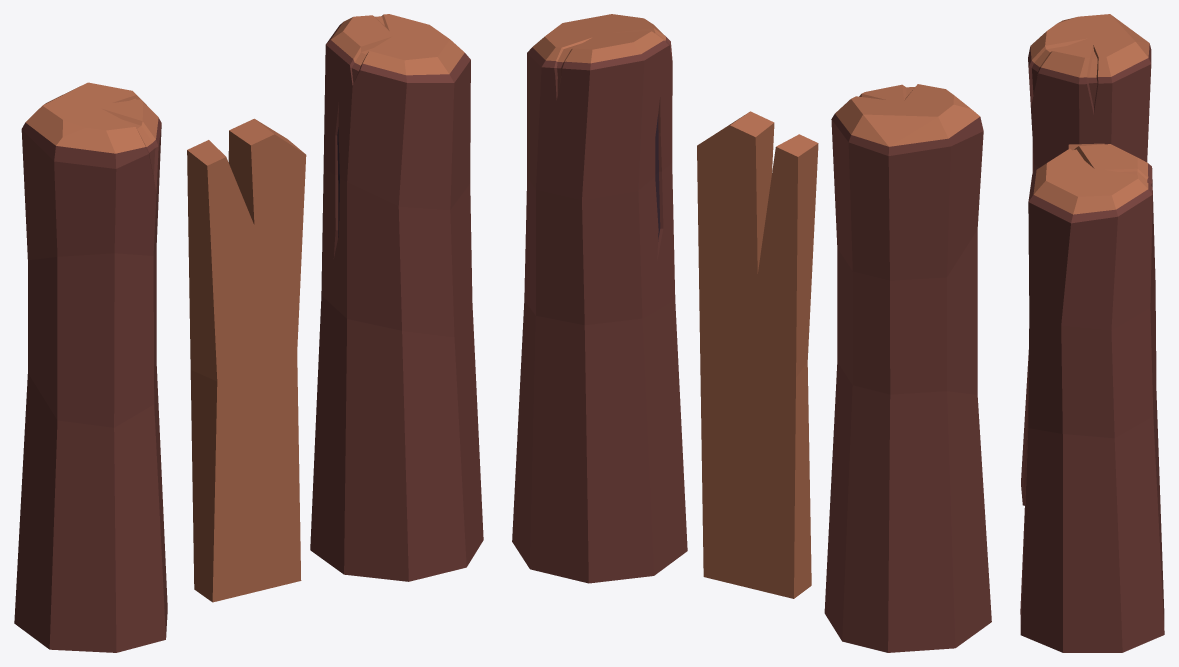
Rendered from Fence Wooden Blunt 13.fbx.
3 views of the same model, side by side, from view 1: azimuth 30°, elevation 25°; view 2: azimuth 150°, elevation 25°; view 3: azimuth 270°, elevation 25° (orthographic). The views are drawn at different scales.
Visible parts, largest first — view 1: Wooden Pole Blunt 13; view 2: Wooden Pole Blunt 13; view 3: Wooden Pole Blunt 13.
Part boxes in pixels (x1,y1,x2,y2): Wooden Pole Blunt 13: (14, 14, 483, 652); Wooden Pole Blunt 13: (512, 14, 991, 652); Wooden Pole Blunt 13: (1020, 14, 1164, 652).
Bounding box in the file's own units: 98.77 × 111 × 31.68.
